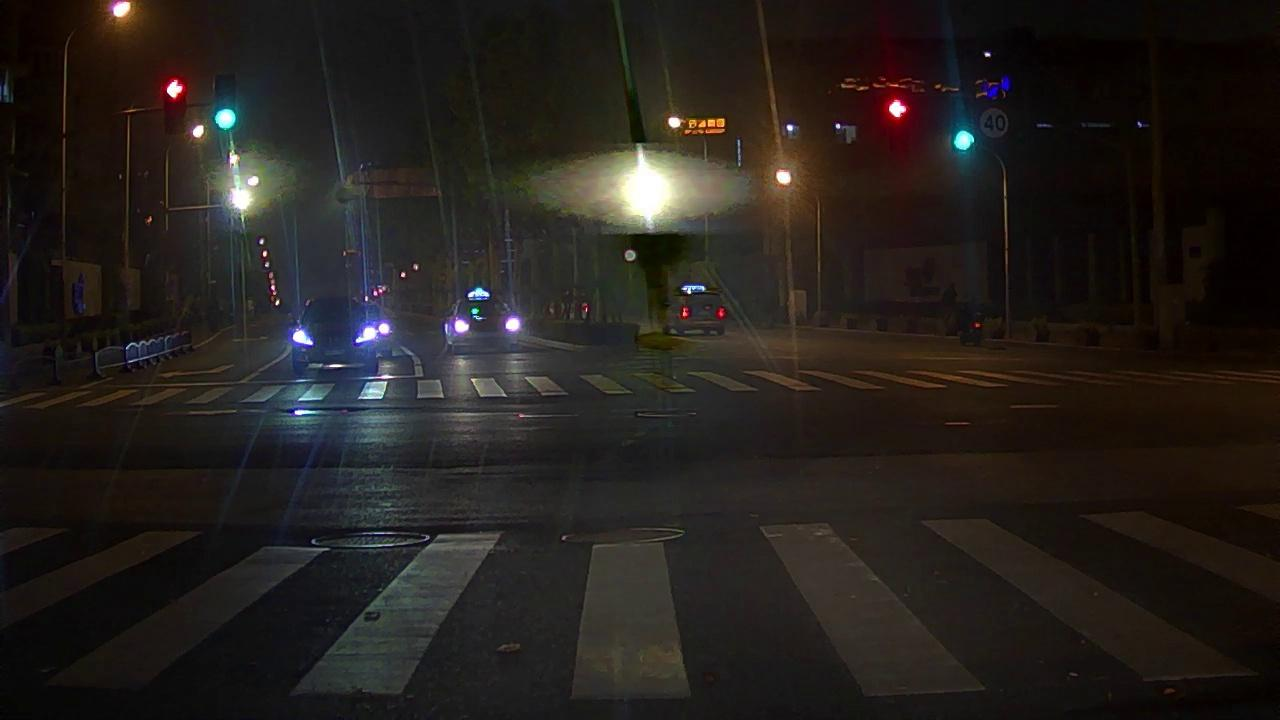traffic_light: (214, 76, 235, 134), (165, 78, 185, 131), (954, 113, 974, 165), (889, 100, 908, 147)
